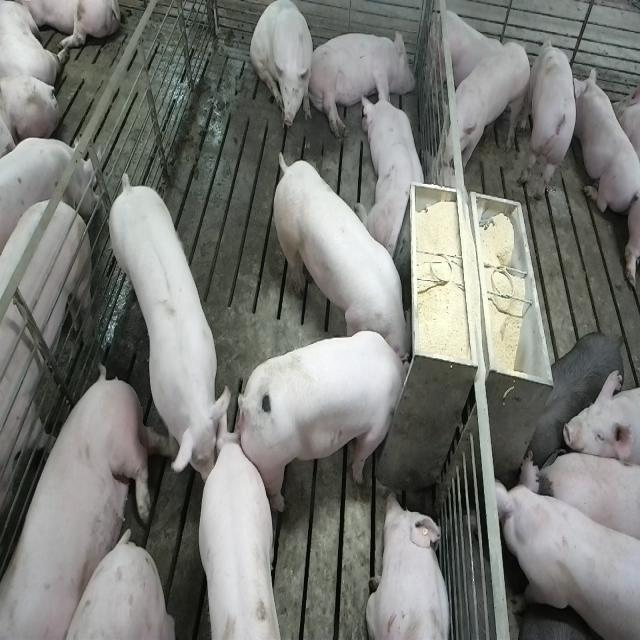Feeding: (243, 330, 420, 513), (269, 144, 411, 360)
Lateral_lying: (3, 362, 164, 635), (308, 27, 416, 140)
Sitting: (250, 2, 315, 136)
Standing: (0, 193, 94, 640), (106, 164, 235, 479), (492, 457, 638, 640), (191, 439, 281, 640), (526, 328, 622, 456), (0, 135, 99, 259), (443, 40, 533, 174), (536, 447, 640, 551), (566, 369, 640, 468)
Sternal_lying: (365, 489, 453, 640), (362, 80, 431, 258), (573, 66, 637, 214)
